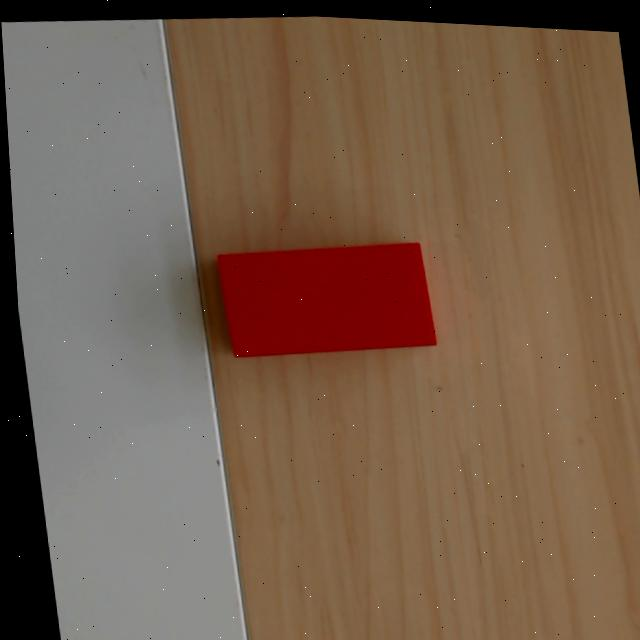Balok-Merah-1005025: (215, 242, 437, 359)
